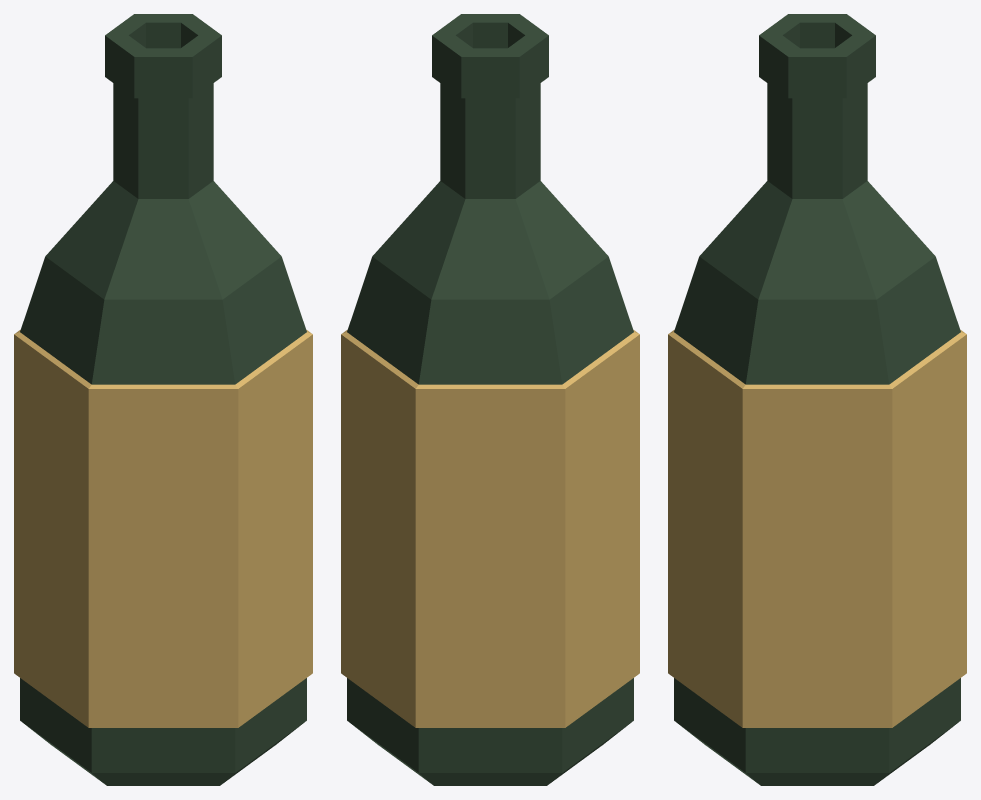
File: Bottle_02.glb
3 renders of one model, left to right at view 1: azimuth 30°, elevation 25°; view 2: azimuth 150°, elevation 25°; view 3: azimuth 270°, elevation 25°, orthographic.
Parts seen in each view (by area): view 1: Bottle_02; view 2: Bottle_02; view 3: Bottle_02.
Boxes of the visible parts, x1,y1,x2,y2 form: Bottle_02: (14, 14, 312, 785); Bottle_02: (341, 14, 639, 785); Bottle_02: (668, 14, 966, 785).
Size of what is drawn, in the model's own units: 0.1899 by 0.574 by 0.2192.
Materials: 1 (1 with a texture image).
